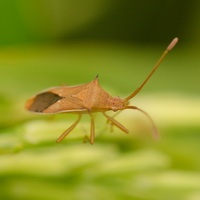insect: (25, 37, 178, 143)
